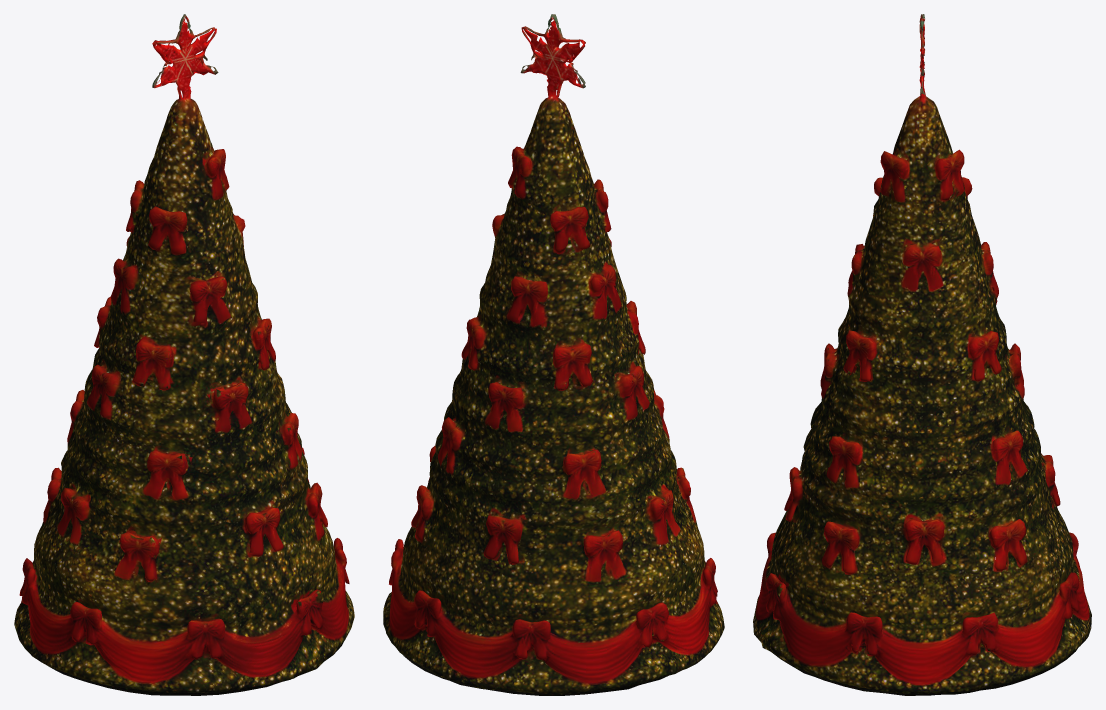
File: xmas_tree.glb
3 renders of one model, left to right at view 1: azimuth 30°, elevation 25°; view 2: azimuth 150°, elevation 25°; view 3: azimuth 270°, elevation 25°, orthographic.
Visible parts, largest first — view 1: tripo_node_38fe95d0_q; view 2: tripo_node_38fe95d0_q; view 3: tripo_node_38fe95d0_q.
Boxes of the visible parts, x1=… form: tripo_node_38fe95d0_q: x1=14, y1=14, x2=354, y2=695; tripo_node_38fe95d0_q: x1=383, y1=14, x2=724, y2=695; tripo_node_38fe95d0_q: x1=753, y1=14, x2=1091, y2=695.
Size of the model in its own units: 49.02 by 97.51 by 48.85.
Materials: 1 (1 with a texture image).
